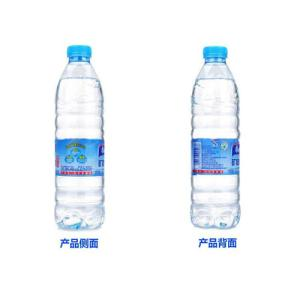amwater: (179, 38, 247, 235), (48, 34, 110, 234)
